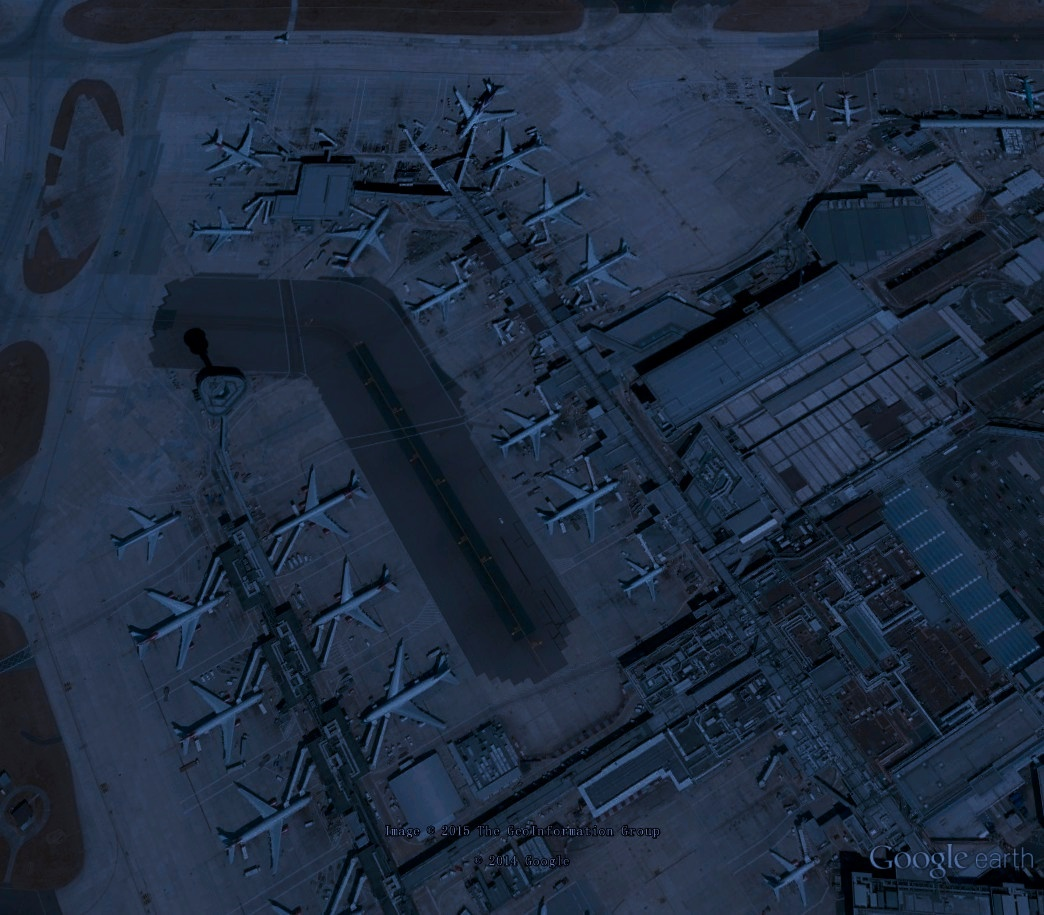aircraft: (357, 634, 463, 744), (213, 777, 318, 880), (265, 459, 376, 547), (168, 676, 270, 769), (126, 585, 231, 675), (304, 547, 403, 639), (532, 469, 627, 549), (316, 202, 396, 282), (108, 499, 184, 571), (559, 228, 643, 292), (489, 402, 567, 468), (475, 124, 555, 186), (448, 76, 523, 142), (519, 172, 598, 234), (399, 273, 478, 330), (759, 847, 825, 912), (202, 120, 267, 177), (186, 204, 253, 255), (615, 553, 673, 610), (766, 84, 816, 132), (820, 88, 868, 130), (1002, 73, 1044, 112)
